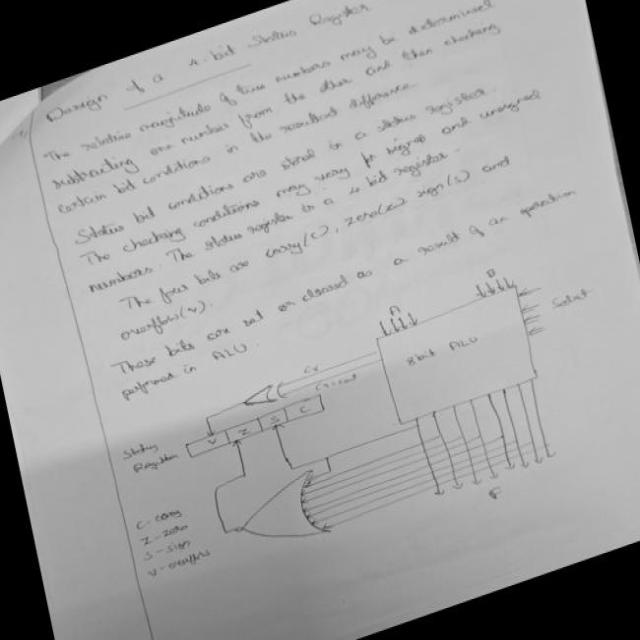Figure Detection - v3 Dataset Version2: (98, 226, 640, 628)
